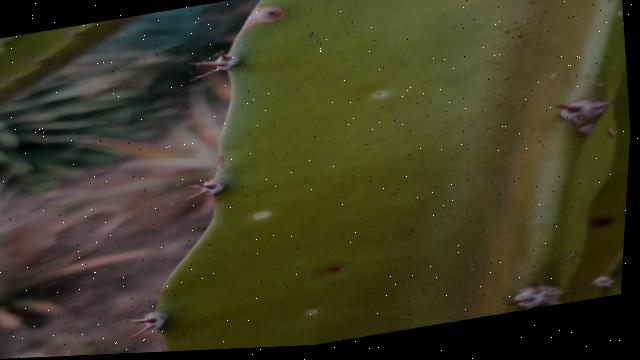stemcanker: (582, 213, 622, 231), (318, 257, 347, 279)
